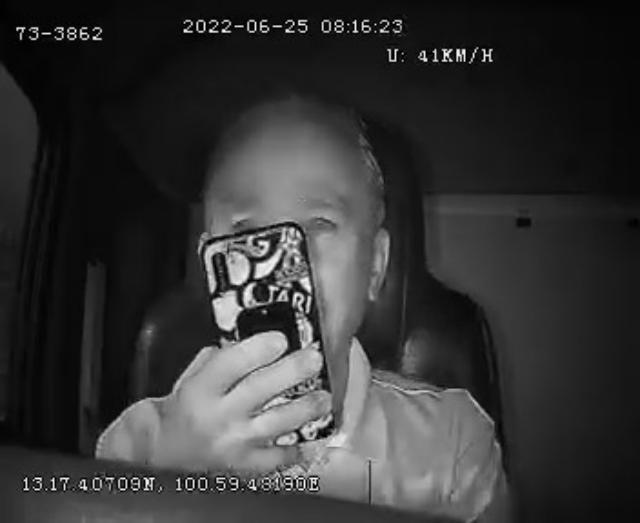PhoneUse: (199, 221, 337, 446)
SafeDriving: (300, 198, 344, 246)
